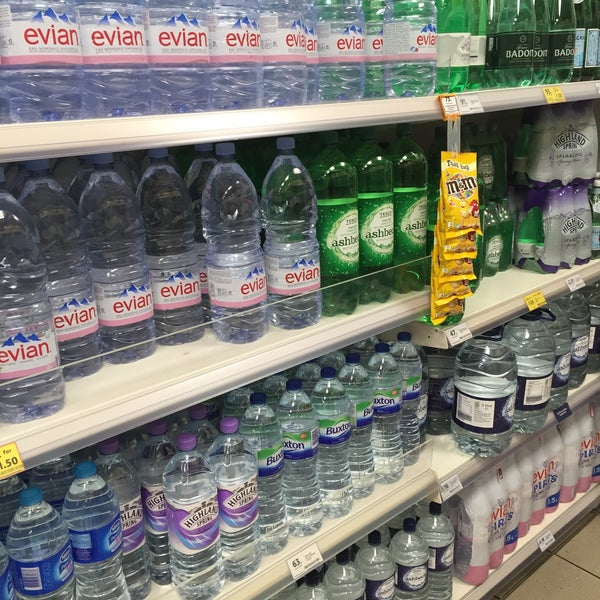Evian: (84, 157, 159, 366), (138, 150, 213, 344), (206, 146, 273, 340), (4, 9, 93, 64), (81, 15, 152, 60), (95, 292, 165, 323)
